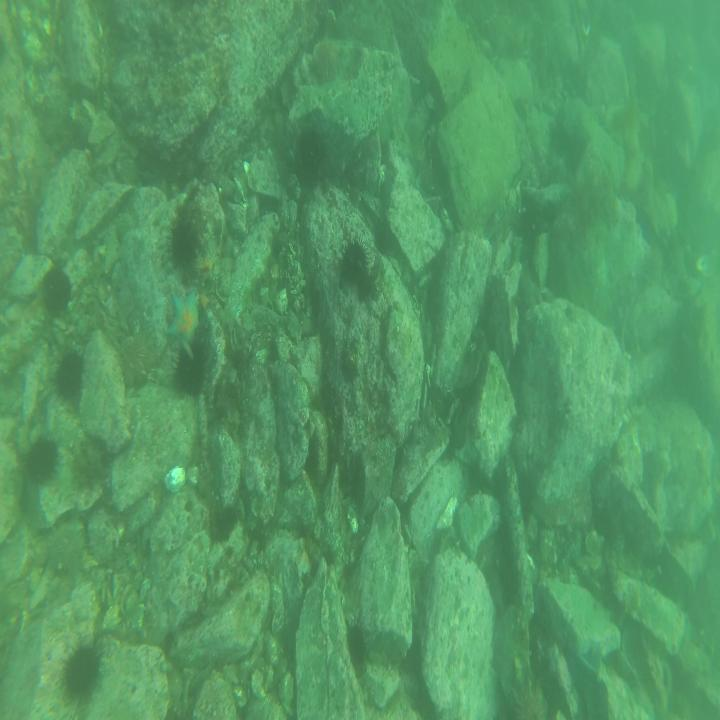echinus: (61, 636, 104, 704), (334, 232, 370, 291), (170, 349, 209, 400), (164, 217, 199, 273), (309, 32, 343, 88), (116, 335, 148, 390), (54, 350, 85, 404), (294, 125, 327, 175), (27, 437, 59, 486), (42, 270, 73, 317), (341, 616, 370, 665)
starfish: (164, 286, 203, 354)
